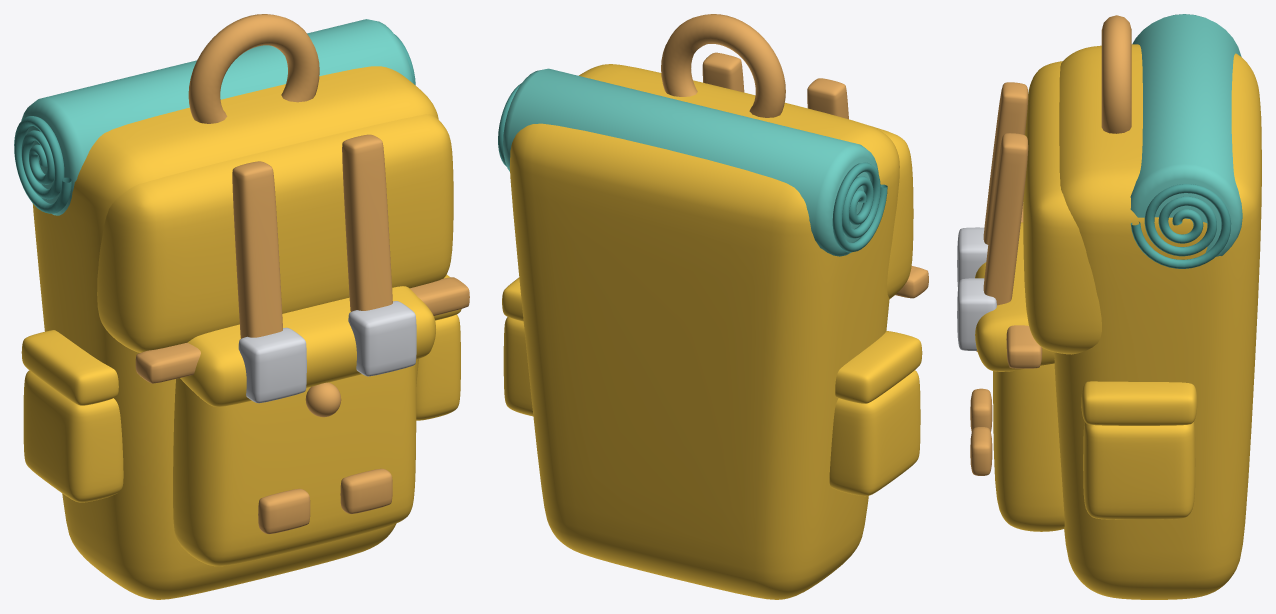
The model's file is Mochila.glb.
3 views of the same model, side by side, from view 1: azimuth 30°, elevation 25°; view 2: azimuth 150°, elevation 25°; view 3: azimuth 270°, elevation 25° (orthographic). The views are drawn at different scales.
Parts seen in each view (by area): view 1: Bag_Body, Bag_Lid, Bag_Pocket, Bag_Roll, Bag_SidePocket_R, Bag_PocketFlap, Bag_Strap_R, Bag_Strap_L, Bag_Handle, Bag_SideFlap_R, Bag_Buckle_R, Bag_Buckle_L (+6 smaller); view 2: Bag_Body, Bag_Roll, Bag_SidePocket_R, Bag_Handle, Bag_SideFlap_R, Bag_Spiral_R, Bag_Lid, Bag_SidePocket_L, Bag_Strap_R, Bag_Strap_L, Bag_SideFlap_L, Bag_LidTrim; view 3: Bag_Body, Bag_Roll, Bag_Lid, Bag_Pocket, Bag_SidePocket_L, Bag_SideFlap_L, Bag_Strap_L, Bag_Spiral_L2, Bag_Handle, Bag_PocketFlap, Bag_Strap_R, Bag_Buckle_L (+4 smaller).
Part boxes in pixels (left/top/right/bottom): Bag_Body: left=32, top=66, right=438, bottom=599; Bag_Lid: left=97, top=114, right=453, bottom=352; Bag_Pocket: left=173, top=364, right=416, bottom=566; Bag_Roll: left=21, top=19, right=412, bottom=215; Bag_SidePocket_R: left=23, top=370, right=123, bottom=502; Bag_PocketFlap: left=180, top=286, right=435, bottom=406; Bag_Strap_R: left=232, top=161, right=282, bottom=338; Bag_Strap_L: left=342, top=134, right=392, bottom=311; Bag_Handle: left=188, top=14, right=319, bottom=123; Bag_SideFlap_R: left=21, top=330, right=118, bottom=405; Bag_Buckle_R: left=238, top=327, right=306, bottom=403; Bag_Buckle_L: left=348, top=301, right=416, bottom=376; Bag_Body: left=509, top=64, right=899, bottom=599; Bag_Roll: left=503, top=68, right=878, bottom=256; Bag_SidePocket_R: left=829, top=370, right=920, bottom=496; Bag_Handle: left=661, top=14, right=785, bottom=117; Bag_SideFlap_R: left=835, top=331, right=922, bottom=403; Bag_Spiral_R: left=832, top=162, right=887, bottom=252; Bag_Lid: left=869, top=125, right=913, bottom=298; Bag_SidePocket_L: left=503, top=317, right=533, bottom=416; Bag_Strap_R: left=807, top=78, right=848, bottom=119; Bag_Strap_L: left=702, top=52, right=744, bottom=92; Bag_SideFlap_L: left=502, top=277, right=523, bottom=321; Bag_LidTrim: left=895, top=266, right=928, bottom=298; Bag_Body: left=1054, top=44, right=1261, bottom=599; Bag_Roll: left=1130, top=14, right=1242, bottom=256; Bag_Lid: left=1023, top=61, right=1101, bottom=354; Bag_Pocket: left=993, top=363, right=1064, bottom=531; Bag_SidePocket_L: left=1083, top=422, right=1195, bottom=519; Bag_SideFlap_L: left=1081, top=381, right=1197, bottom=425; Bag_Strap_L: left=983, top=133, right=1028, bottom=305; Bag_Spiral_L2: left=1130, top=184, right=1231, bottom=268; Bag_Handle: left=1101, top=15, right=1131, bottom=133; Bag_PocketFlap: left=975, top=222, right=1054, bottom=371; Bag_Strap_R: left=983, top=82, right=1028, bottom=244; Bag_Buckle_L: left=957, top=278, right=996, bottom=350.
Bounding box in the file's own units: 1.15 × 1.56 × 0.8105.
